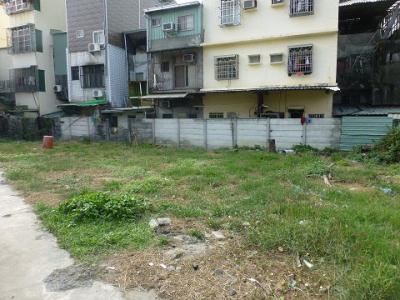bucket: (39, 133, 56, 151)
